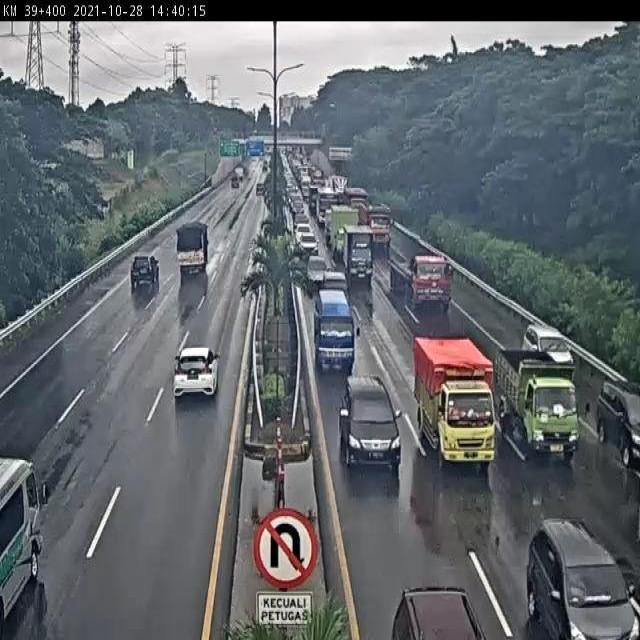big truck: (388, 245, 454, 308)
car: (526, 518, 640, 640), (342, 378, 403, 466), (595, 377, 640, 463), (523, 324, 577, 372), (175, 346, 221, 398), (132, 253, 162, 290), (323, 272, 349, 305), (304, 258, 330, 290)
small bus: (0, 454, 43, 630), (313, 289, 355, 371)
small truck: (416, 333, 498, 463), (494, 340, 578, 456), (345, 226, 374, 290)
truck-m-: (177, 224, 210, 275)
